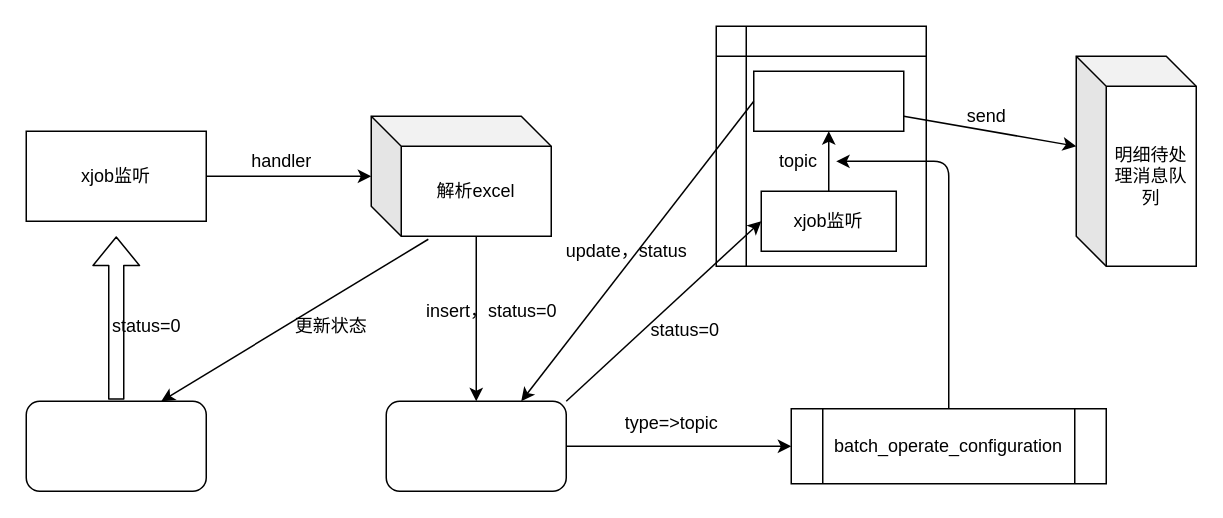
This 1223x518 diagram has some shape labels left out. Each missing label, with the centre of its shape:
"batch_operate_sub" goes at point (475, 445).
"batch_operate_upload" goes at point (115, 445).
"producer" goes at point (828, 100).
